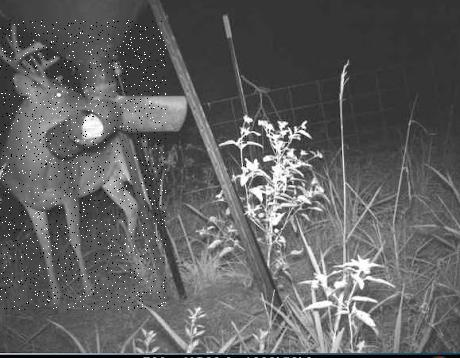Deer: (0, 20, 166, 310)
